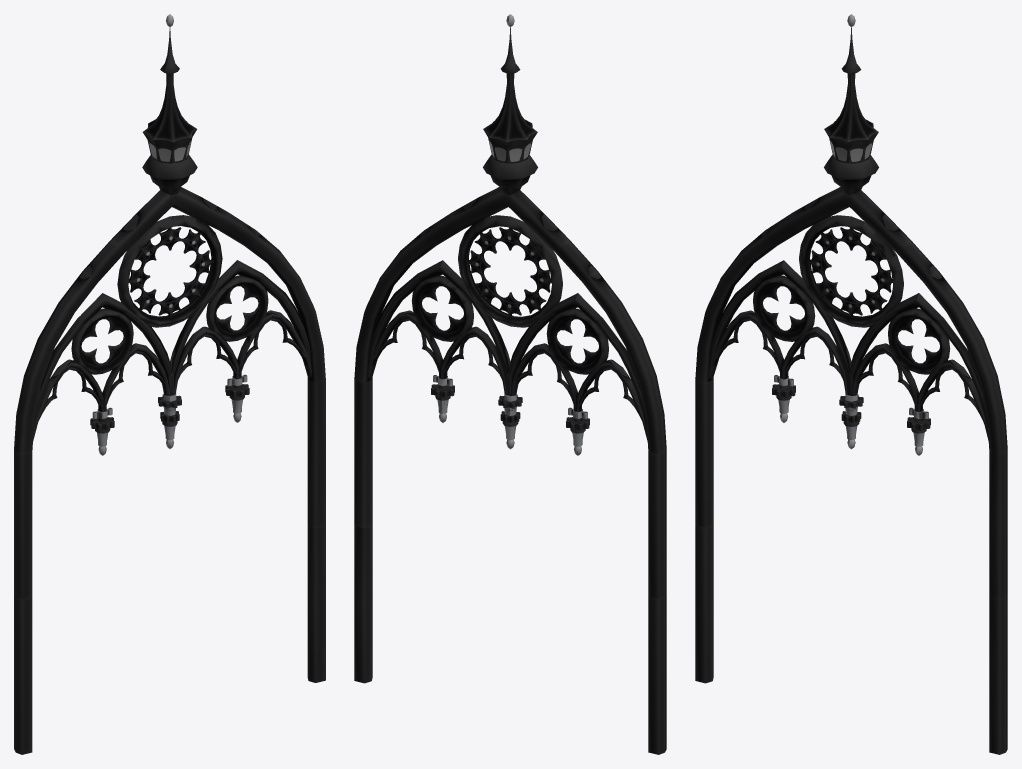
Rendered from gate2.dae.
The picture shows the model from 3 angles, left to right: view 1: azimuth 30°, elevation 25°; view 2: azimuth 150°, elevation 25°; view 3: azimuth 330°, elevation 25°; orthographic projection.
Parts seen in each view (by area): view 1: gate02Shape-P0; view 2: gate02Shape-P0; view 3: gate02Shape-P0.
Boxes of the visible parts, x1,y1,x2,y2 form: gate02Shape-P0: (14,14,325,754); gate02Shape-P0: (354,14,666,754); gate02Shape-P0: (695,14,1007,754).
Size of the model in its own units: 4.45 by 9.66 by 0.6935.
